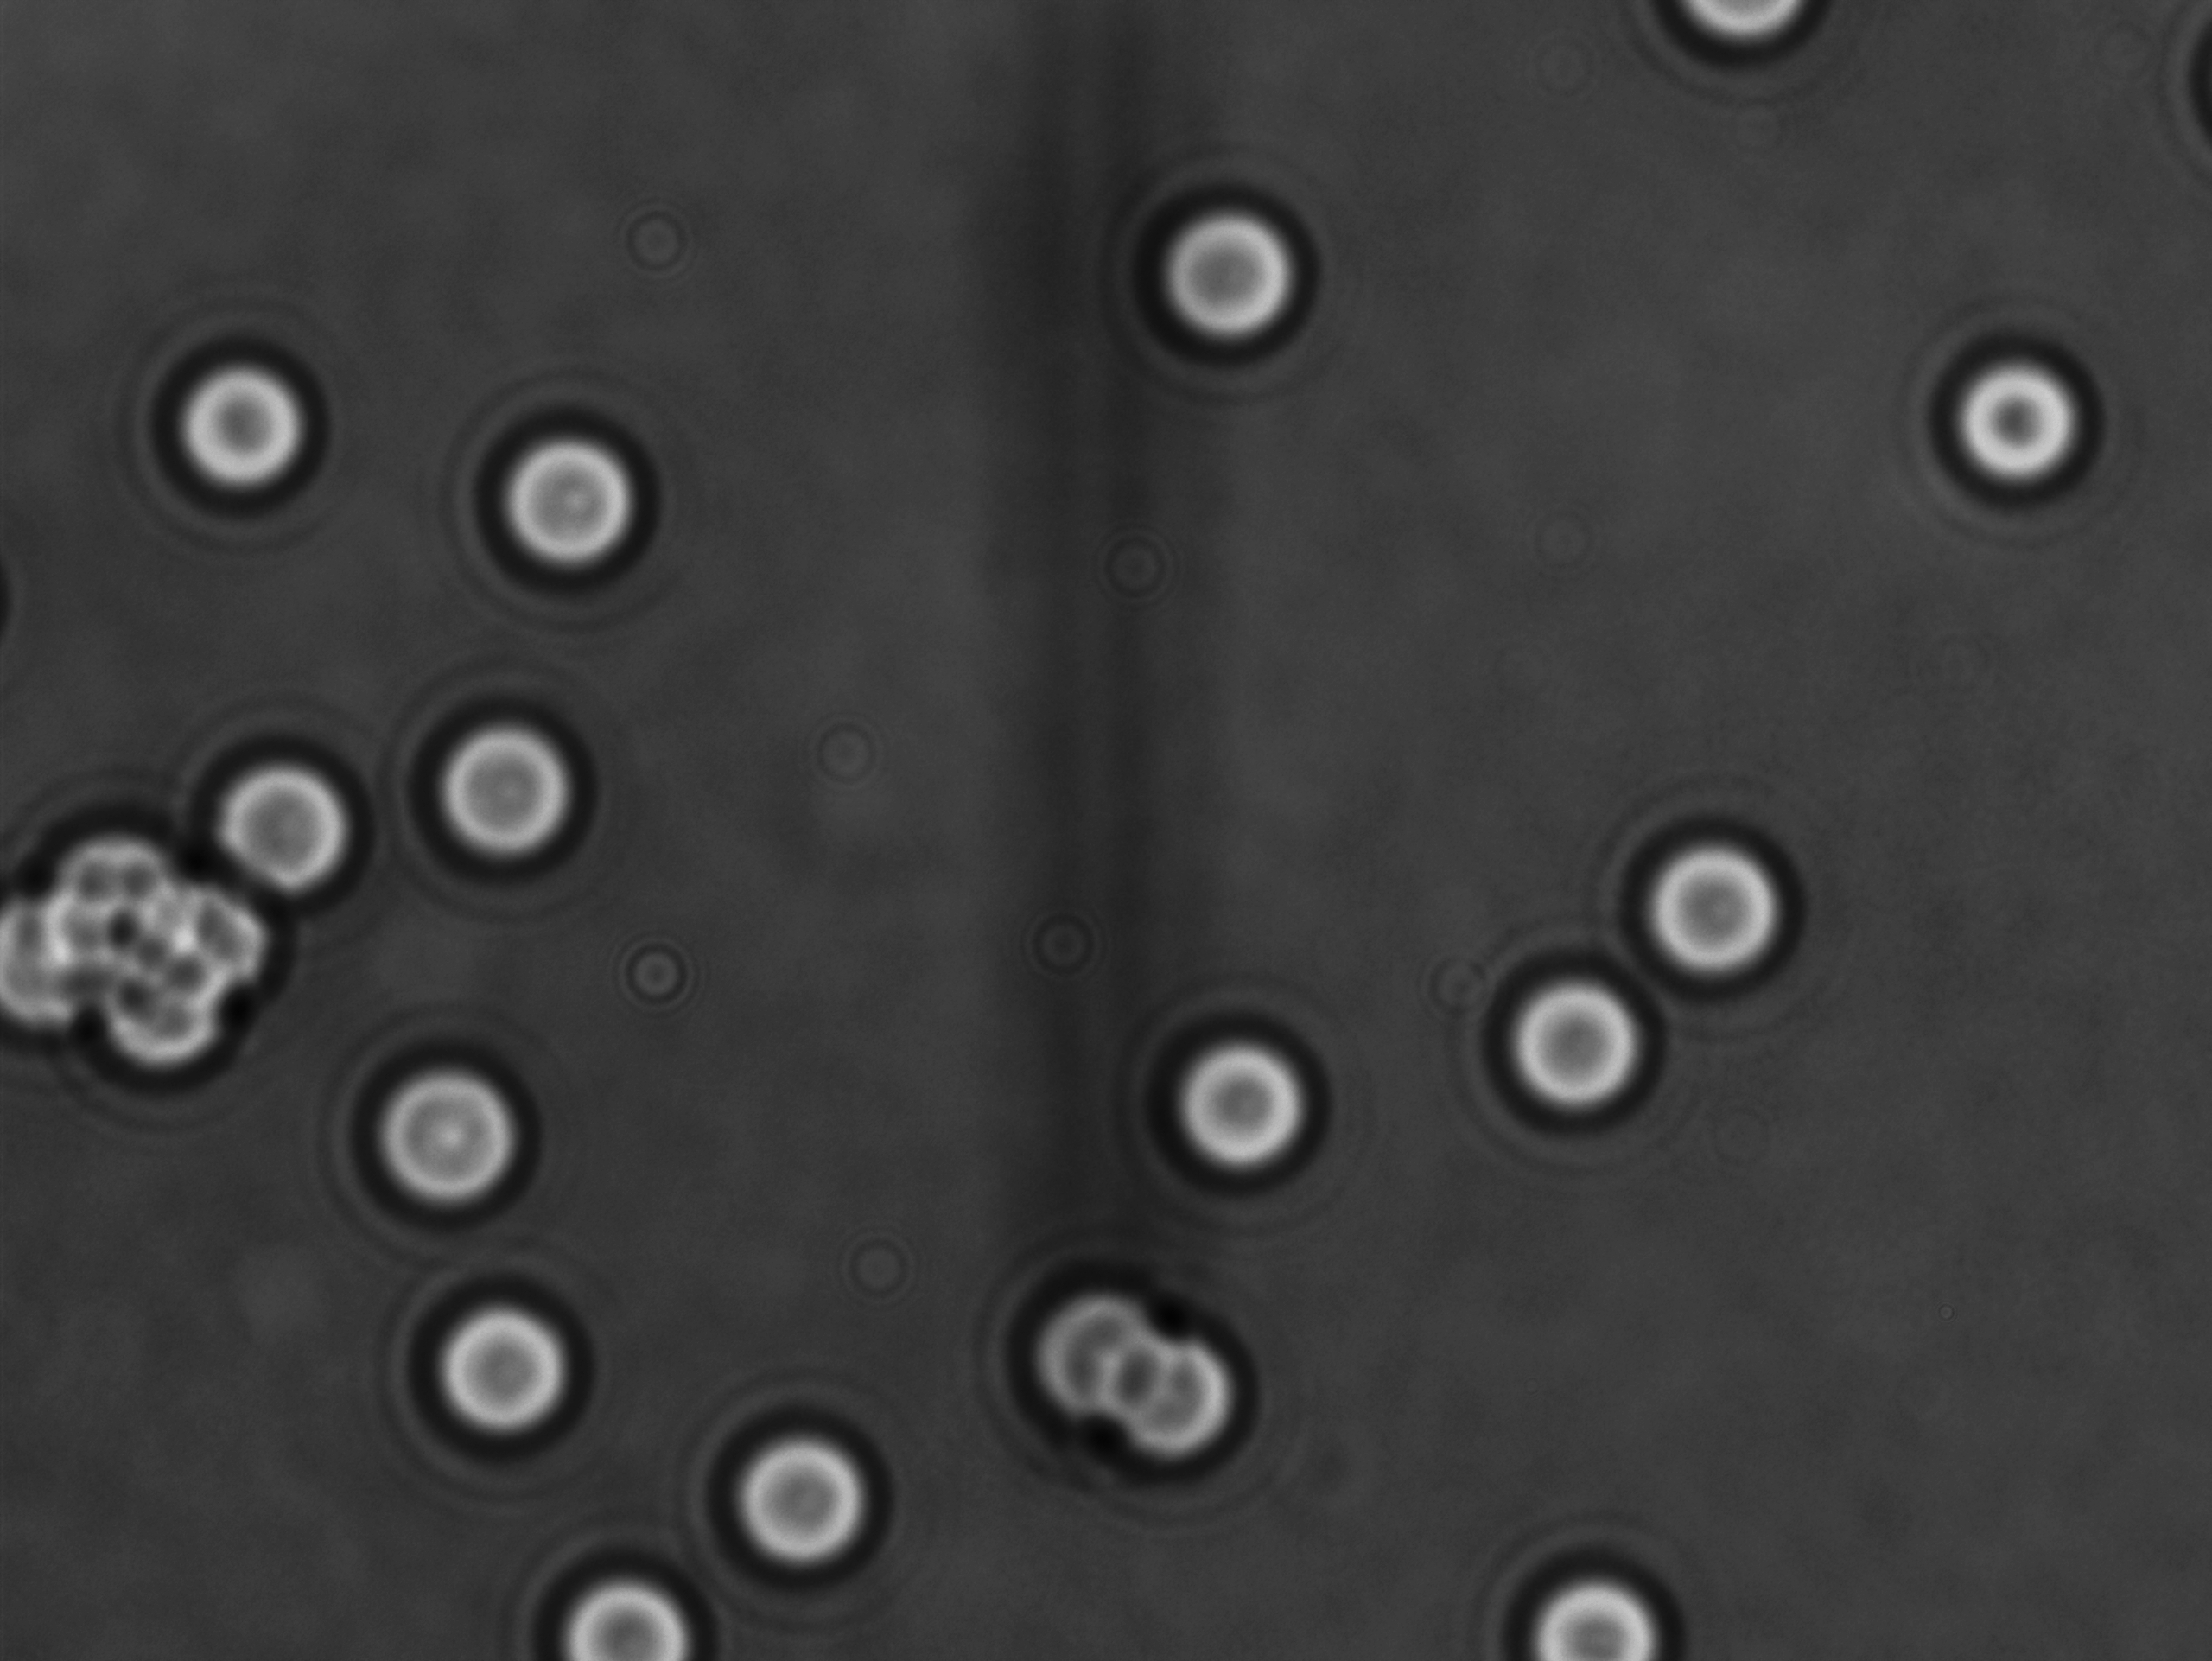depth:60: (1462, 923, 1708, 1143), (403, 689, 626, 914), (1118, 164, 1335, 387), (1915, 309, 2135, 525), (110, 314, 335, 525), (701, 1403, 925, 1605), (1607, 797, 1823, 1005), (1116, 1003, 1340, 1202), (399, 1267, 614, 1467), (468, 415, 680, 611), (338, 1049, 551, 1241), (195, 733, 379, 932), (523, 1504, 731, 1661), (1483, 1516, 1697, 1661)
